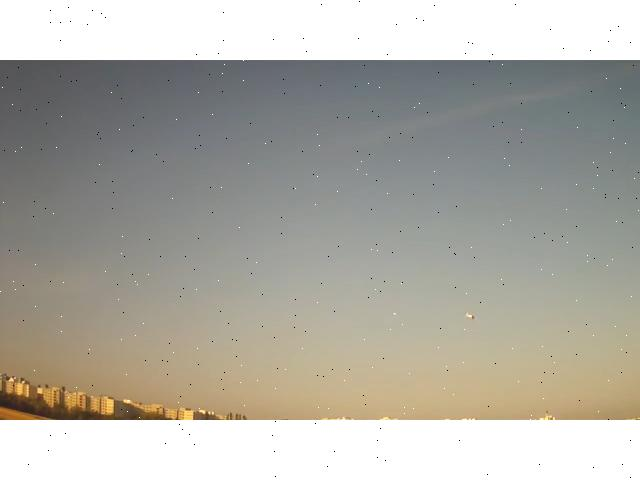Anti-Drone: (464, 310, 486, 328)
